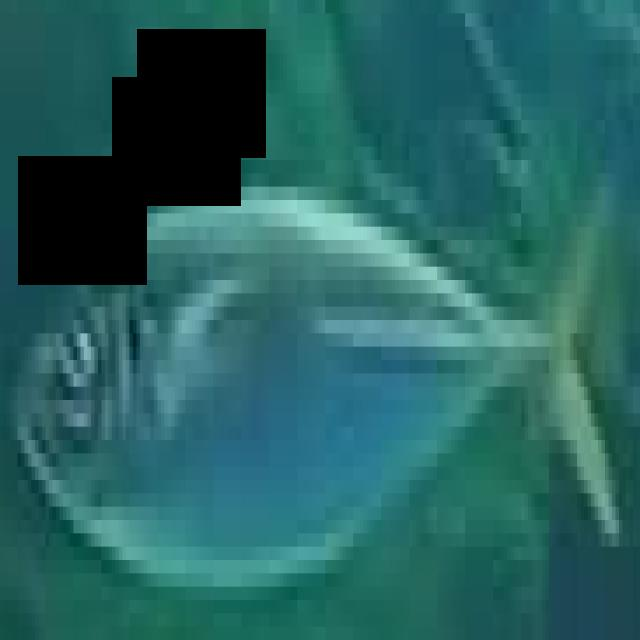fish: (3, 13, 640, 640)
